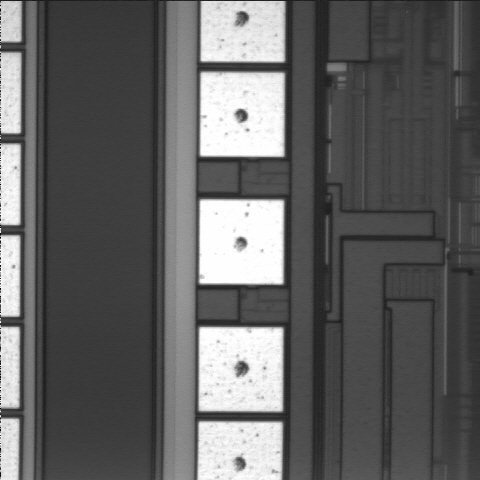pad: (199, 199, 284, 284), (200, 72, 284, 157), (199, 327, 283, 411)
